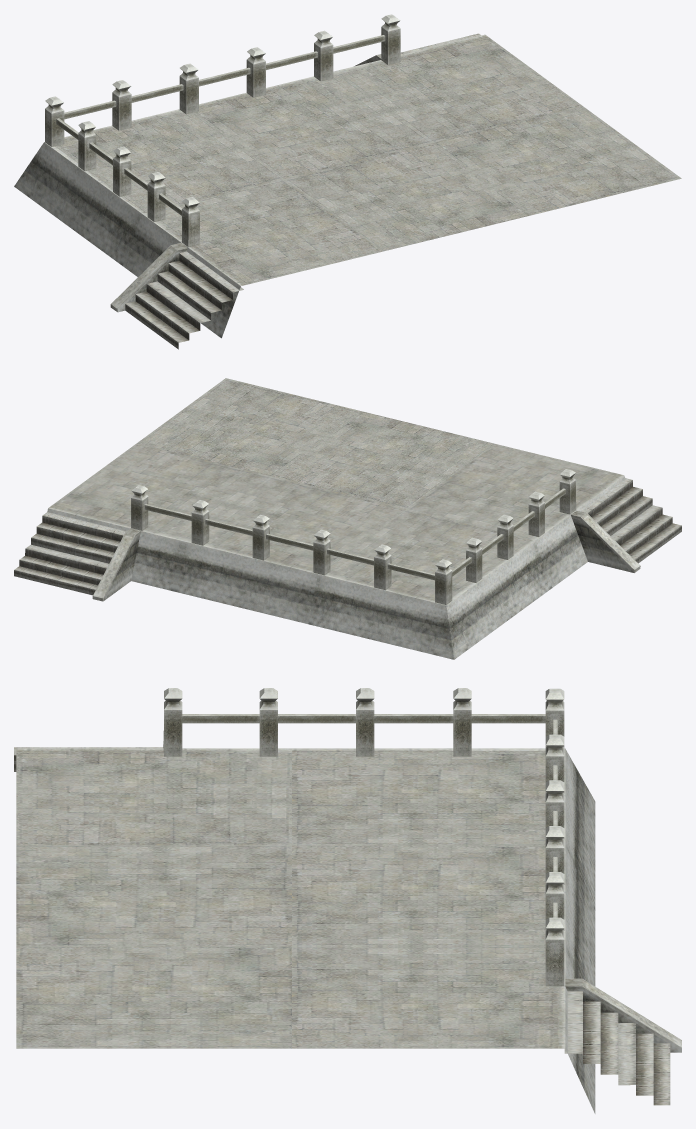
The model's file is snow_tower01_03.fbx.
3 views of the same model, one above another, from view 1: azimuth 30°, elevation 25°; view 2: azimuth 150°, elevation 25°; view 3: azimuth 270°, elevation 25° (orthographic). The views are drawn at different scales.
Visible parts, largest first — view 1: snow_tower02_04; view 2: snow_tower02_04; view 3: snow_tower02_04.
Part boxes in pixels (left/top/right/bottom): snow_tower02_04: left=14, top=14, right=681, bottom=349; snow_tower02_04: left=14, top=378, right=681, bottom=659; snow_tower02_04: left=14, top=688, right=681, bottom=1113.
Size of the model in its own units: 42.51 by 7.32 by 34.46.
